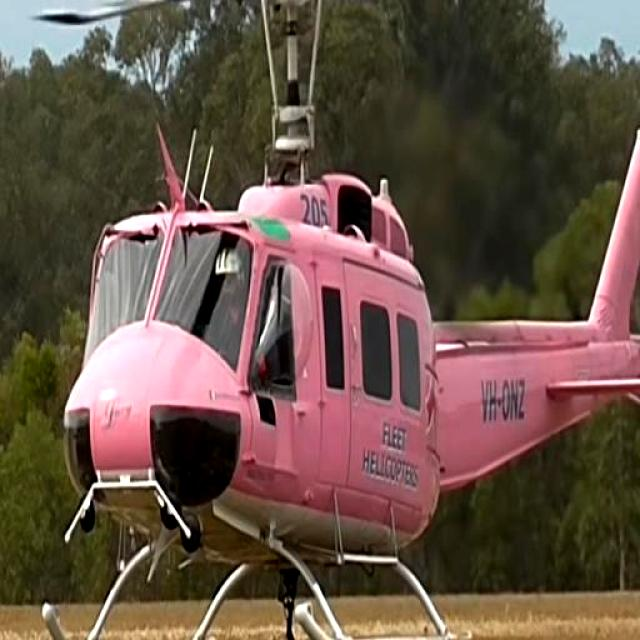drone: (25, 0, 640, 640)
